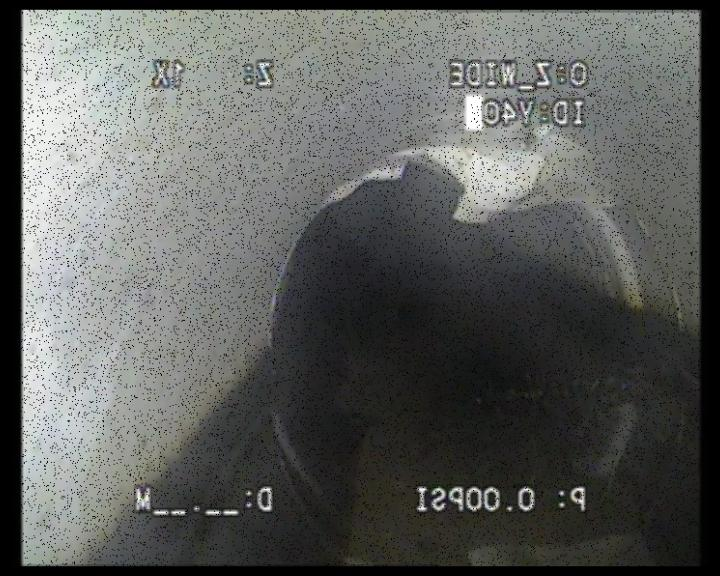Rupture: (327, 127, 619, 228)
